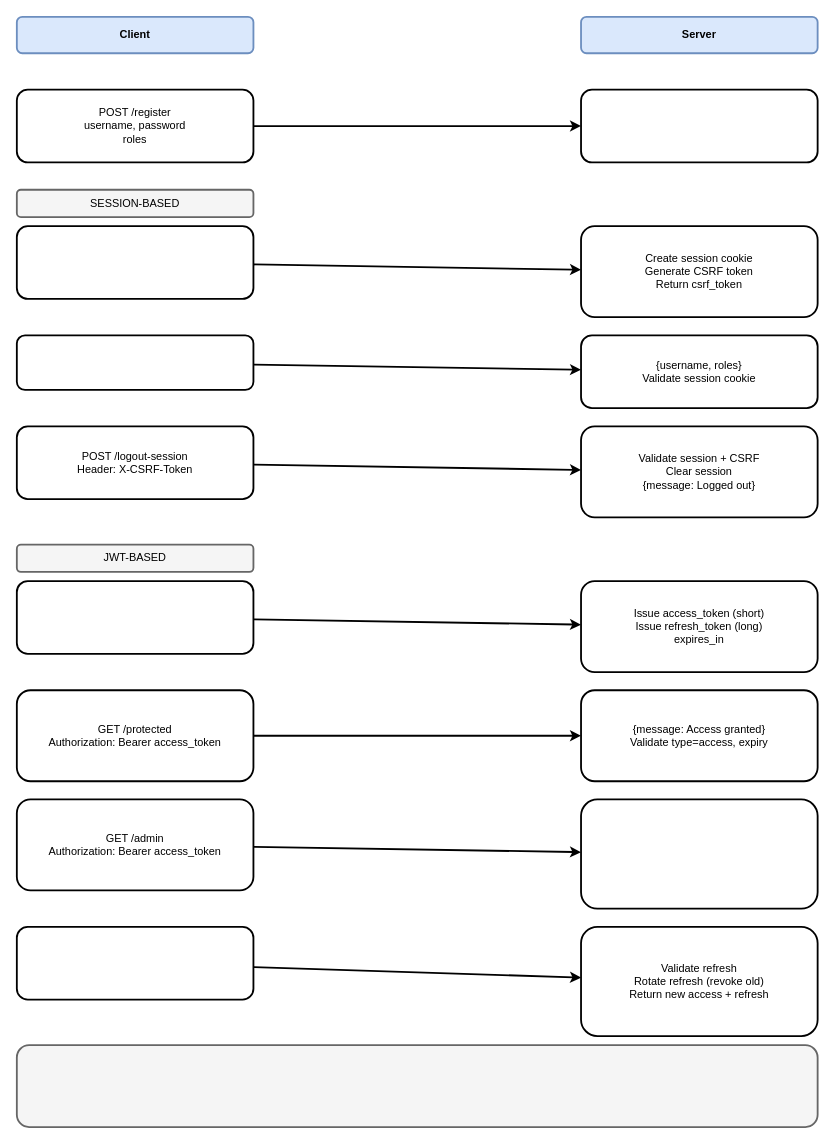
This 834x1143 diagram has some shape labels left out. The shapes that lost their labels are listed below. From the top down, each one's centre as x and y in pixels, then its label:
pixel 699 125: 201 Created Hash password (bcrypt) Store user + roles
pixel 134 262: POST /login-session {username, password}
pixel 134 362: GET /me-session
pixel 134 617: POST /login-jwt {username, password}
pixel 699 853: {message: Admin access granted} Validate roles contains "admin"
pixel 134 962: POST /refresh-jwt {refresh_token}
pixel 416 1085: Authorization Check Session: roles in session JWT: roles in token claims
